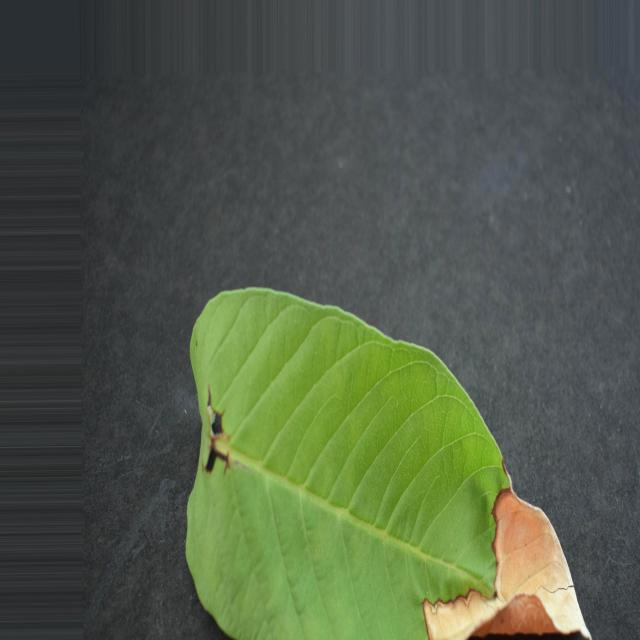Mummification: (186, 289, 590, 639)
